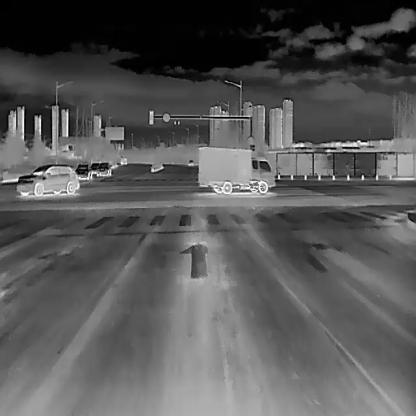car: (198, 145, 275, 194), (15, 164, 79, 195), (74, 163, 90, 179), (96, 161, 111, 175), (90, 161, 100, 174), (120, 155, 128, 164), (188, 158, 195, 166)
